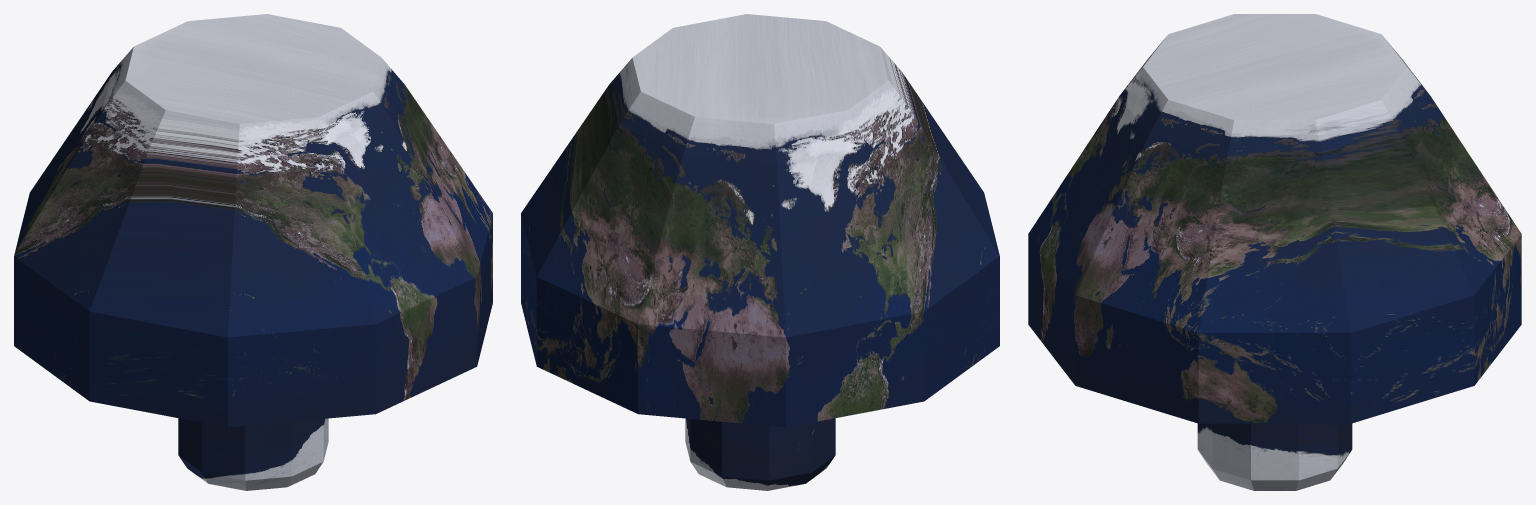
File: mashroom_new.obj
3 renders of one model, left to right at view 1: azimuth 30°, elevation 25°; view 2: azimuth 150°, elevation 25°; view 3: azimuth 270°, elevation 25°, orthographic.
Visible parts, largest first — view 1: Cylinder; view 2: Cylinder; view 3: Cylinder.
Part boxes in pixels (x1,y1,x2,y2): Cylinder: (14,14,492,490); Cylinder: (521,14,999,490); Cylinder: (1028,14,1521,490).
Bounding box in the file's own units: 0.6375 × 0.5943 × 0.6703.
1 material, 1 textured.
